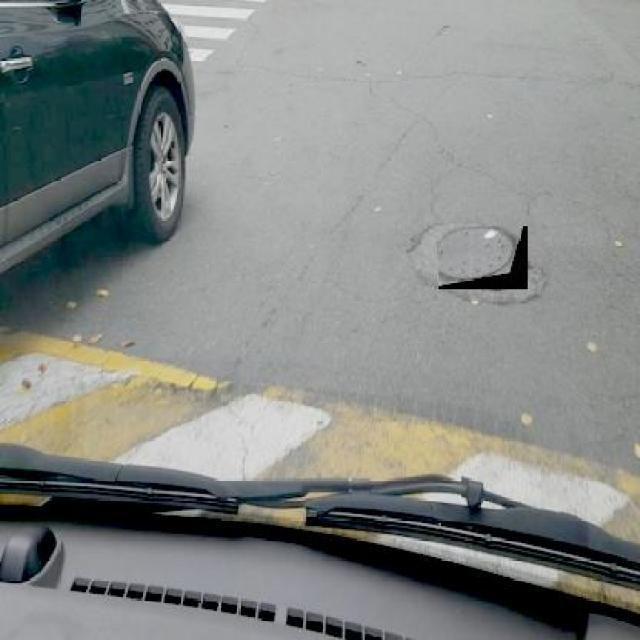Manhole: (438, 226, 528, 289)
Speed Bump: (6, 328, 640, 444)
